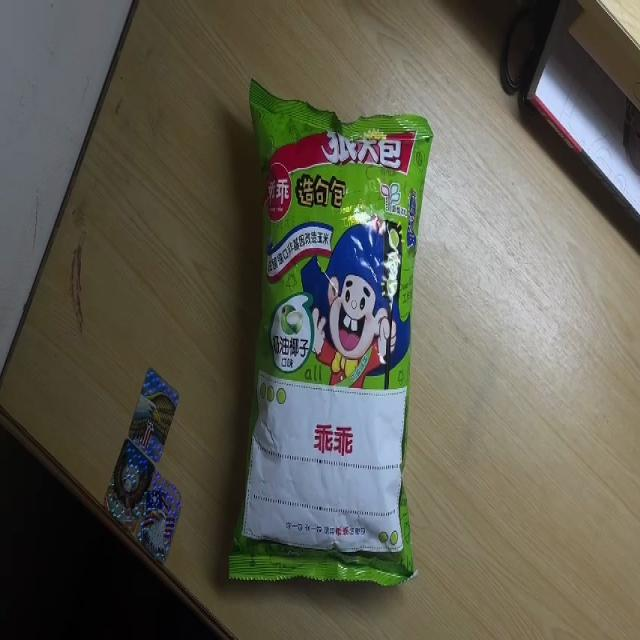Good-Luck: (229, 76, 433, 585)
